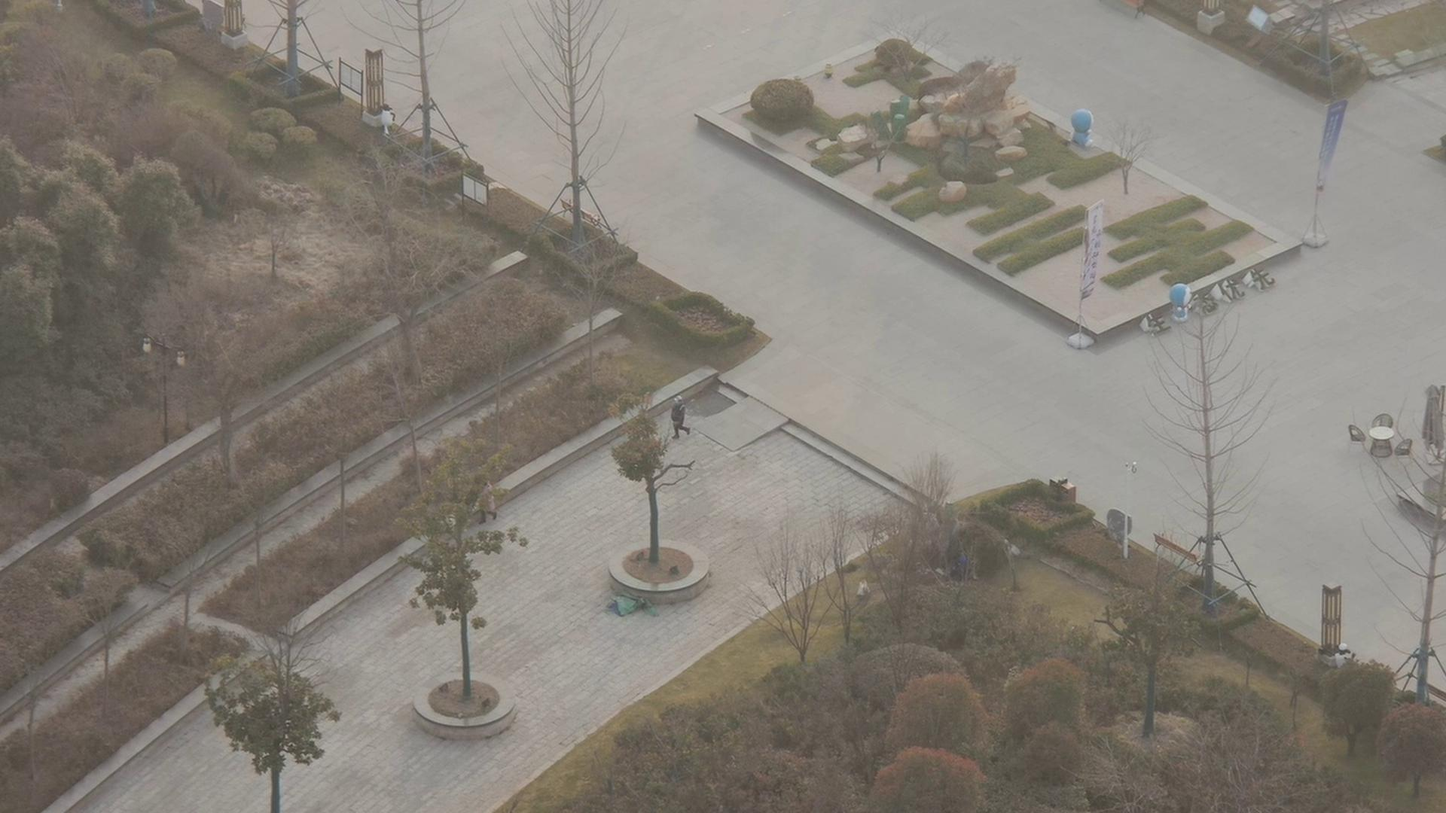human: (669, 379, 703, 437)
